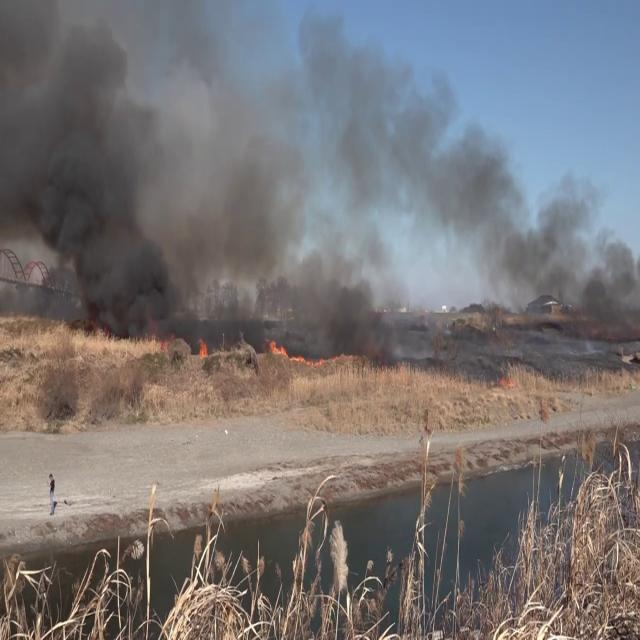Smoke: (0, 1, 636, 348)
